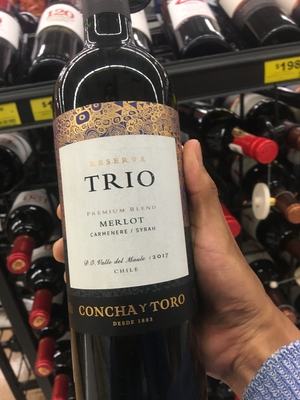trio merlot: (52, 29, 225, 382)
